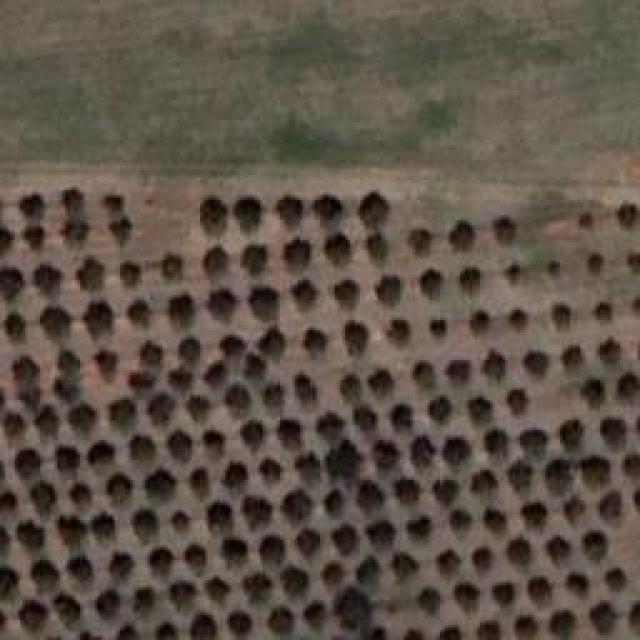Tree: (335, 590, 373, 632), (515, 500, 550, 538), (590, 600, 623, 640), (557, 413, 590, 450), (323, 225, 351, 268), (377, 270, 410, 304), (197, 505, 230, 539), (168, 290, 203, 322), (382, 313, 414, 348), (500, 456, 534, 488), (485, 430, 520, 461), (314, 193, 344, 229), (237, 500, 269, 533), (502, 535, 534, 568), (537, 460, 570, 492), (445, 218, 476, 252), (44, 300, 74, 335), (135, 510, 165, 545), (545, 610, 580, 640), (108, 550, 139, 583), (490, 577, 521, 610), (192, 198, 226, 228), (273, 190, 303, 224), (600, 490, 630, 524), (510, 610, 545, 639), (205, 243, 233, 279), (32, 265, 64, 296), (290, 277, 321, 309), (228, 195, 259, 227), (455, 262, 486, 294), (430, 475, 461, 507), (332, 280, 365, 310), (52, 368, 85, 398), (408, 225, 438, 258), (28, 560, 58, 593), (358, 193, 385, 229), (125, 298, 157, 328), (285, 232, 315, 264), (350, 405, 382, 435), (504, 387, 534, 419), (17, 603, 49, 633), (405, 435, 435, 467), (58, 513, 86, 547), (588, 295, 616, 329), (310, 410, 344, 438), (85, 300, 116, 330), (300, 603, 330, 634), (468, 465, 498, 496), (198, 427, 227, 459), (180, 540, 209, 572), (240, 567, 269, 599), (298, 455, 327, 487), (560, 565, 589, 597), (253, 285, 281, 318), (85, 435, 113, 468), (128, 435, 158, 465), (370, 438, 400, 468), (600, 568, 629, 599), (144, 468, 176, 496), (147, 398, 180, 425), (613, 202, 640, 235), (105, 475, 132, 508), (410, 360, 437, 393), (330, 442, 357, 475), (58, 183, 88, 212), (110, 215, 140, 244), (490, 213, 520, 242), (220, 535, 250, 564), (110, 400, 136, 433), (278, 417, 304, 450), (133, 585, 158, 619), (15, 380, 45, 408), (18, 523, 46, 553), (260, 533, 288, 563), (265, 608, 295, 636), (78, 258, 105, 289), (300, 325, 331, 352), (90, 588, 121, 615), (23, 222, 49, 254), (210, 285, 236, 317), (358, 475, 383, 508), (64, 215, 92, 244), (343, 323, 370, 353), (245, 353, 272, 383), (205, 361, 235, 388), (15, 451, 45, 478), (388, 405, 418, 432), (598, 418, 625, 448), (465, 393, 496, 419), (545, 535, 571, 566), (58, 448, 86, 476), (28, 485, 56, 513), (336, 376, 364, 404), (578, 383, 606, 411), (283, 568, 311, 596), (283, 490, 311, 518), (393, 478, 421, 506), (70, 404, 96, 434), (0, 310, 24, 342), (168, 577, 192, 609), (360, 552, 384, 584), (0, 560, 20, 598), (258, 328, 285, 356), (293, 376, 320, 404), (510, 300, 537, 328), (440, 435, 468, 462), (418, 585, 444, 614), (93, 513, 118, 543), (228, 608, 253, 638), (460, 308, 487, 335), (523, 428, 551, 454), (440, 550, 465, 579), (585, 528, 609, 558), (160, 248, 183, 279), (428, 398, 455, 424), (525, 578, 552, 604), (323, 558, 348, 586), (168, 365, 197, 389), (243, 243, 267, 272), (8, 358, 38, 381), (150, 545, 173, 575), (617, 370, 639, 401), (503, 258, 529, 284), (483, 351, 508, 378), (545, 305, 572, 330), (473, 543, 498, 570), (0, 413, 24, 441), (65, 555, 93, 579), (298, 525, 320, 555), (373, 368, 398, 394), (333, 525, 359, 550), (168, 431, 192, 458), (188, 468, 212, 495), (595, 335, 622, 359), (545, 255, 568, 283), (195, 612, 218, 640), (0, 270, 21, 300), (128, 370, 154, 394), (420, 270, 444, 296), (525, 353, 551, 377), (583, 465, 607, 491), (230, 390, 253, 417), (35, 410, 62, 433), (371, 523, 398, 546), (175, 335, 203, 357), (123, 258, 145, 286), (408, 518, 436, 540), (458, 585, 480, 613), (448, 503, 472, 528), (58, 348, 81, 374), (0, 220, 17, 255), (242, 423, 264, 450), (260, 383, 284, 407), (448, 358, 472, 382), (60, 600, 83, 625), (478, 508, 504, 530), (190, 393, 210, 421), (65, 480, 88, 504), (225, 463, 248, 487), (393, 558, 416, 582), (563, 493, 585, 518), (92, 348, 113, 374), (18, 190, 45, 210), (562, 348, 584, 372), (222, 333, 242, 359), (585, 250, 607, 273), (168, 505, 190, 528), (260, 458, 278, 486), (143, 342, 165, 364), (428, 315, 450, 337), (367, 235, 388, 258), (325, 493, 345, 517), (0, 488, 18, 514), (622, 250, 640, 275), (153, 622, 178, 640), (478, 622, 503, 640), (210, 573, 230, 595), (625, 450, 640, 478), (108, 193, 130, 212), (397, 628, 430, 640), (435, 623, 458, 640), (578, 212, 597, 232), (110, 625, 135, 639)
